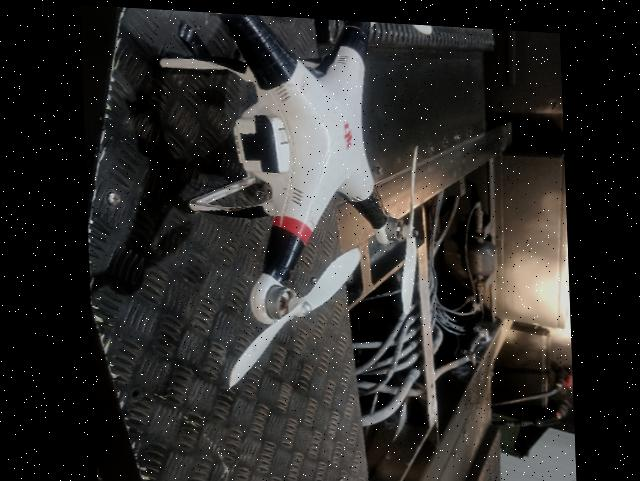drone: (156, 7, 426, 330)
